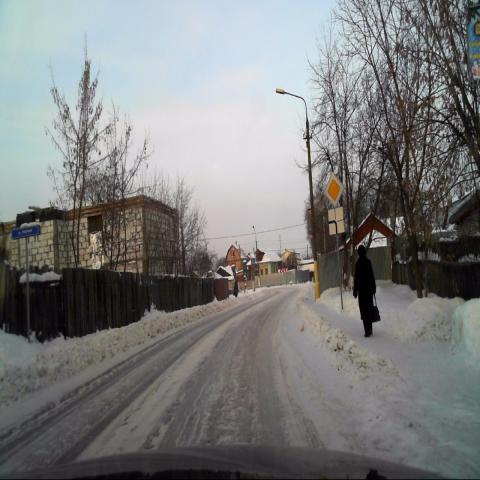8_13: (327, 207, 344, 234)
